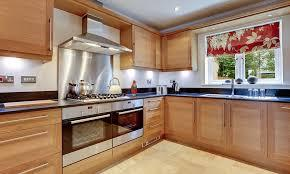light: (169, 1, 183, 17), (265, 12, 274, 19)
